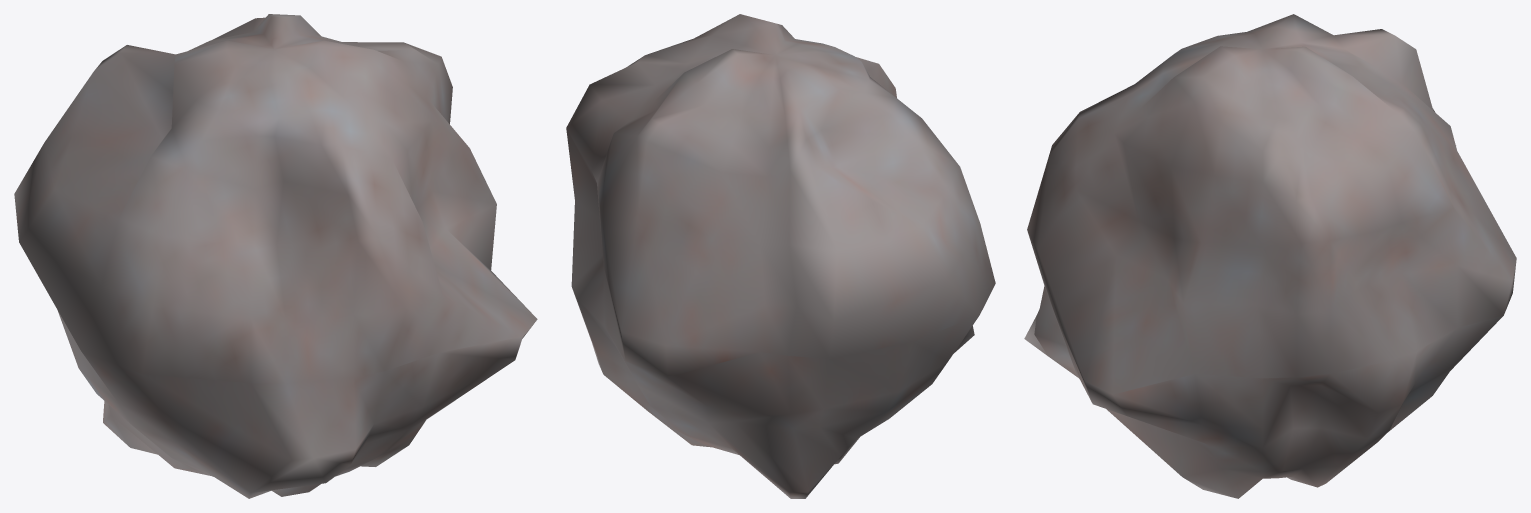
Rendered from Meteorito_01.fbx.
The picture shows the model from 3 angles, left to right: view 1: azimuth 30°, elevation 25°; view 2: azimuth 150°, elevation 25°; view 3: azimuth 270°, elevation 25°; orthographic projection. The views are drawn at different scales.
Parts seen in each view (by area): view 1: Meteorito_01; view 2: Meteorito_01; view 3: Meteorito_01.
Part boxes in pixels (x1=…): Meteorito_01: x1=14, y1=14, x2=537, y2=498; Meteorito_01: x1=566, y1=14, x2=995, y2=498; Meteorito_01: x1=1024, y1=14, x2=1516, y2=498.
Bounding box in the file's own units: 1837 × 1855 × 1900.
1 material, 1 textured.
